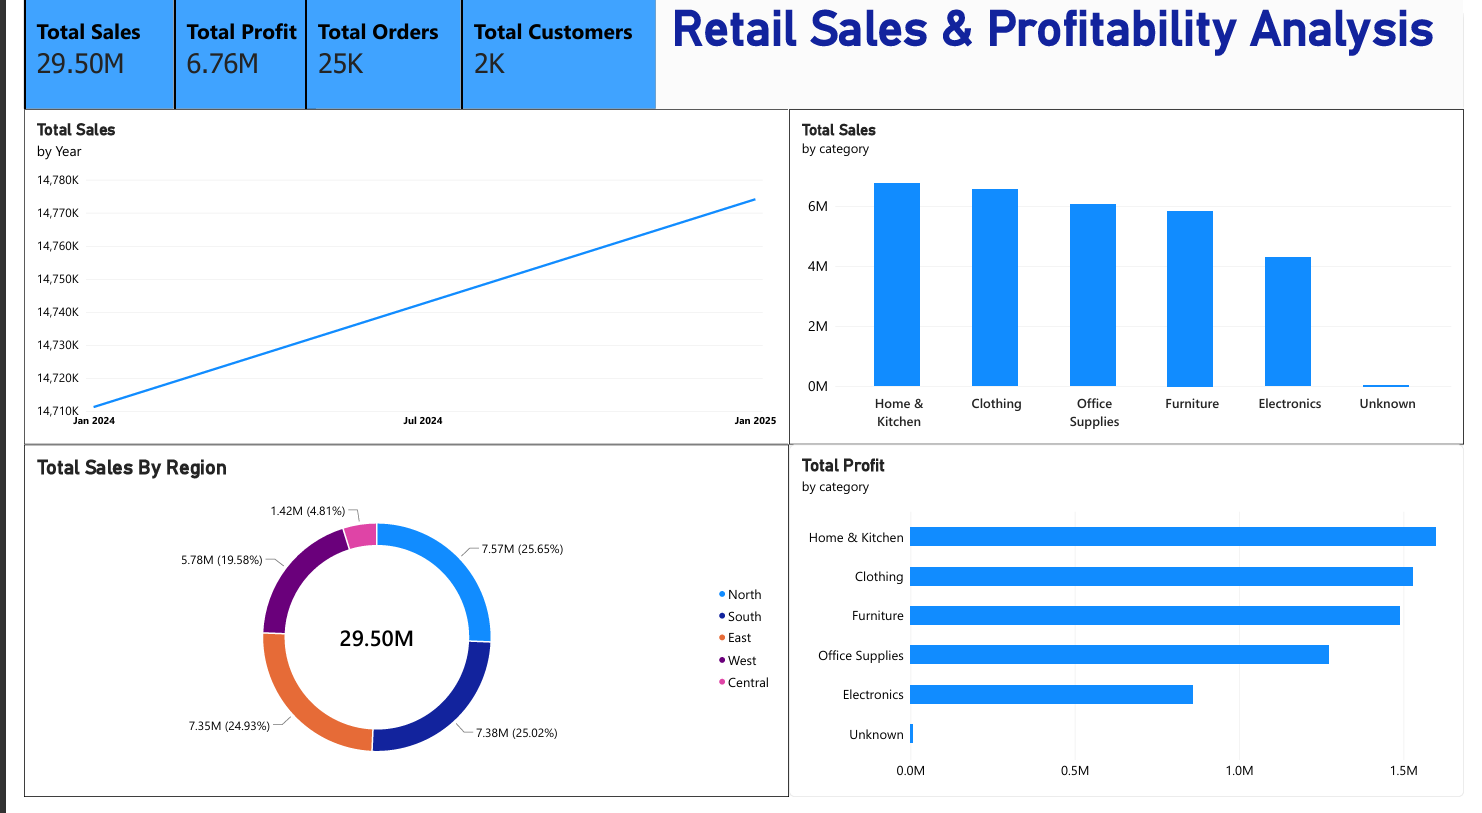

This screenshot's page, from the dashboard's own definition file:
{"tool":"powerbi","page":{"name":"Page 1","canvas":[1920,1080],"ordinal":0},"visuals":[{"type":"cardVisual","fields":{"Data":["dim_customer.Total Profit"]},"box":[200,0,190,162.5],"z":0},{"type":"cardVisual","fields":{"Data":["dim_customer.Total Orders"]},"box":[375,0,207.5,162.5],"z":1000},{"type":"cardVisual","fields":{"Data":["dim_customer.Total Sales"]},"box":[0,0,200,162.5],"z":2000},{"type":"lineChart","fields":{"Category":["dim_date.full_date.Variation.Date Hierarchy.Year","dim_date.full_date.Variation.Date Hierarchy.Quarter","dim_date.full_date.Variation.Date Hierarchy.Month","dim_date.full_date.Variation.Date Hierarchy.Day"],"Y":["dim_customer.Total Sales"]},"box":[0,162.5,1020,447.5],"z":3000},{"type":"clusteredColumnChart","fields":{"Category":["dim_product.category"],"Y":["dim_customer.Total Sales"]},"box":[1020,162.5,900,447.5],"z":4000},{"type":"donutChart","title":"Total Sales By Region","fields":{"Category":["dim_region.region"],"Y":["dim_customer.Total Sales"]},"box":[0,610,1020,470],"z":5000},{"type":"clusteredBarChart","fields":{"Category":["dim_product.category"],"Y":["dim_customer.Total Profit"]},"box":[1020,610,900,470],"z":6000},{"type":"cardVisual","fields":{"Data":["dim_customer.Total Customers"]},"box":[582.5,0,260,162.5],"z":7000},{"type":"textbox","box":[842.5,0,1077.5,162.5],"z":8000}]}

Visuals, with their boxes in screenshot pixels (x1, y1, x2, y2), scaled from the page's 1920x1080 canvas onto the 1482x813 screenshot:
cardVisual - dim_customer.Total Profit: (154,0,301,122)
cardVisual - dim_customer.Total Orders: (289,0,450,122)
cardVisual - dim_customer.Total Sales: (0,0,154,122)
lineChart - dim_date.full_date.Variation.Date Hierarchy.Year x dim_date.full_date.Variation.Date Hierarchy.Quarter: (0,122,787,459)
clusteredColumnChart - dim_product.category x dim_customer.Total Sales: (787,122,1481,459)
"Total Sales By Region" donutChart: (0,459,787,812)
clusteredBarChart - dim_product.category x dim_customer.Total Profit: (787,459,1481,812)
cardVisual - dim_customer.Total Customers: (450,0,650,122)
textbox: (650,0,1481,122)
